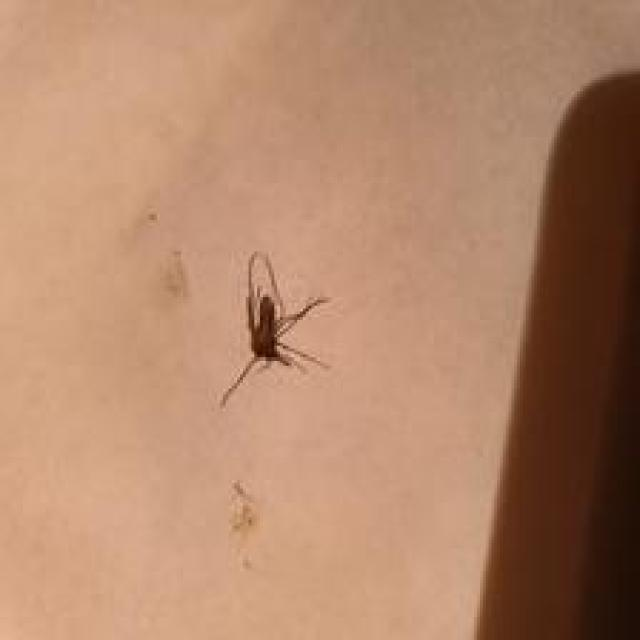Culex: (217, 248, 332, 408)
